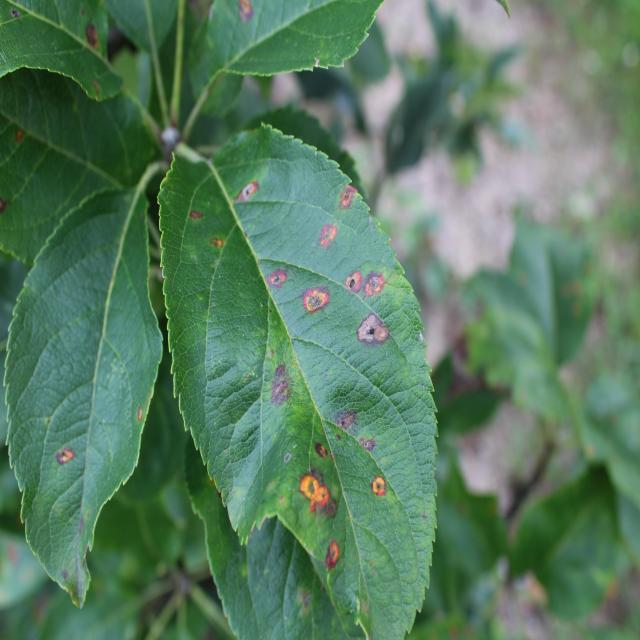Rust: (296, 471, 345, 523), (81, 4, 113, 64), (362, 250, 390, 311), (353, 311, 396, 347), (229, 173, 265, 211), (301, 282, 335, 321), (368, 466, 396, 504), (316, 210, 338, 258), (237, 0, 261, 42), (181, 192, 206, 229), (342, 258, 362, 303), (336, 405, 363, 437), (333, 180, 358, 214), (49, 442, 80, 468), (10, 113, 30, 153), (262, 256, 286, 287), (326, 533, 342, 578), (202, 230, 227, 256), (358, 430, 380, 458), (130, 402, 147, 429)
